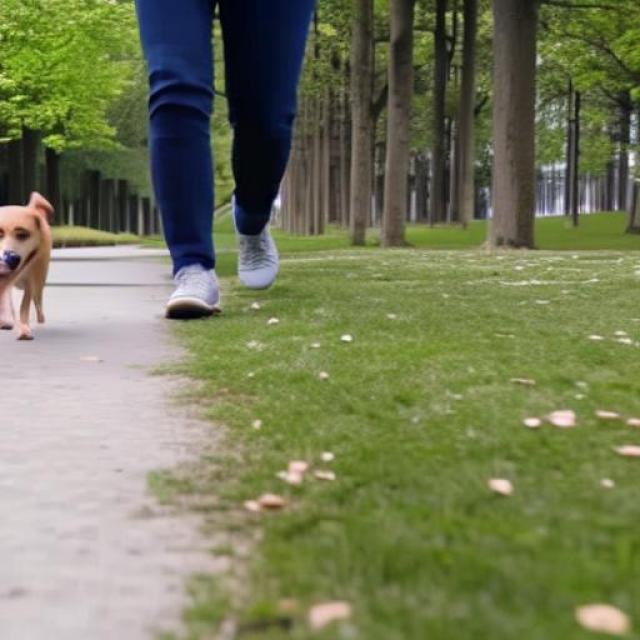Unleashed_Dog: (0, 9, 293, 342)
